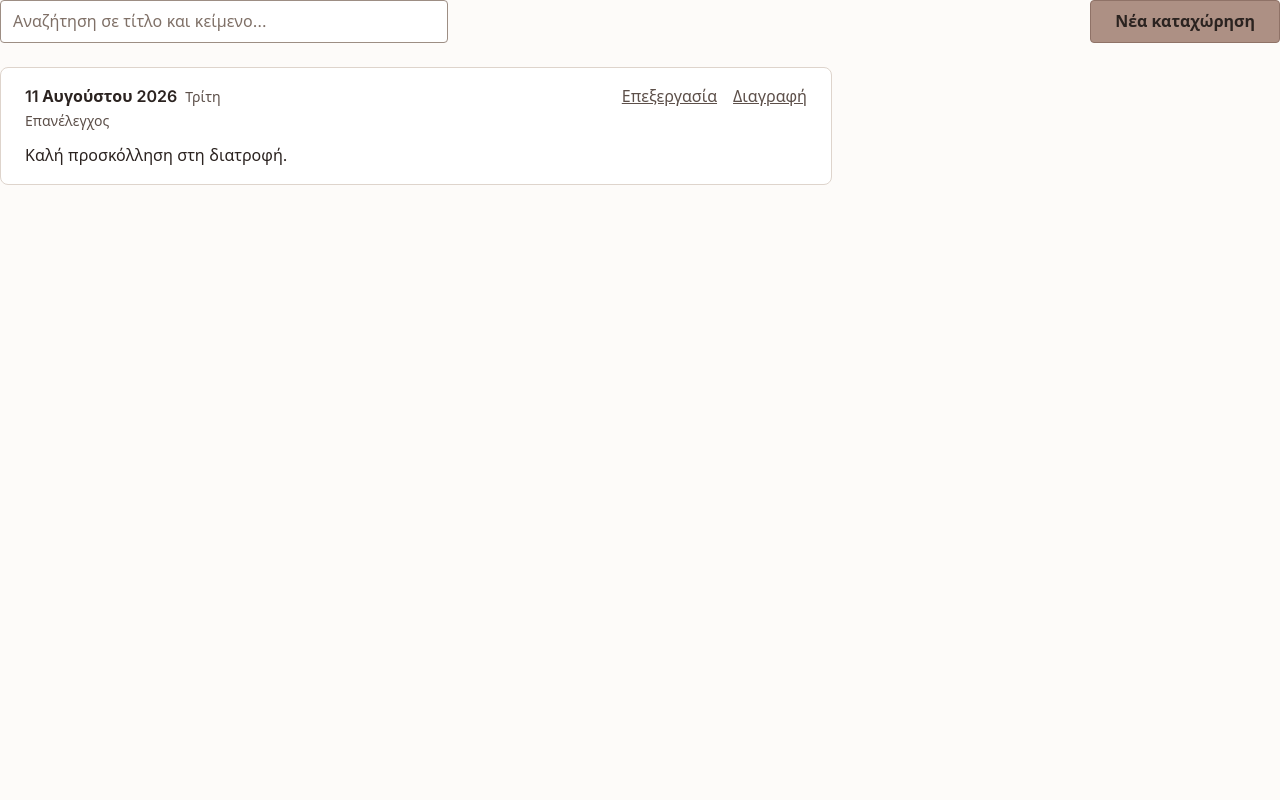
Test: JournalTab › should confirm a delete without inflecting the date
Expected: the text "Επανέλεγχος" is shown, [25, 112, 109, 129]
Click the button named "Διαγραφή καταχώρησης" at (770, 96), box [733, 84, 807, 109]
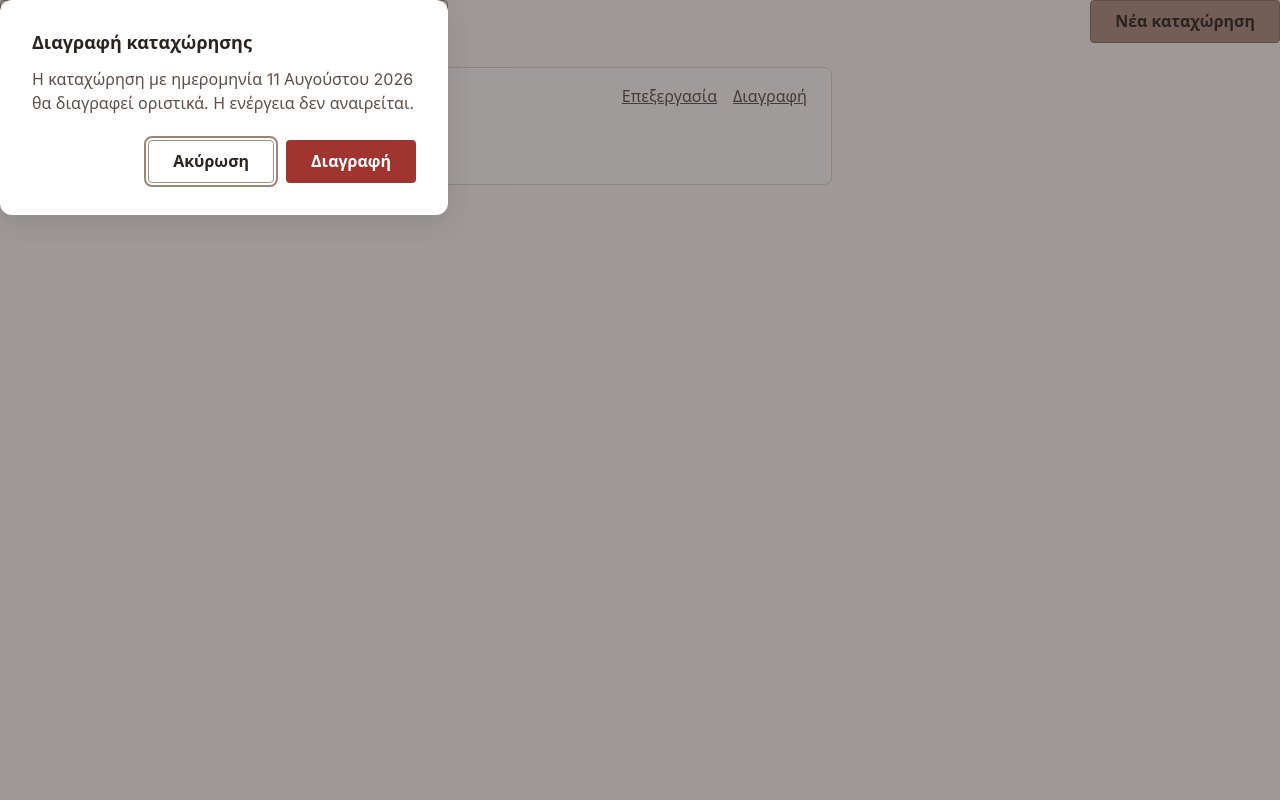
Now the text "με ημερομηνία 11 Αυγούστου 2026" is shown, box [32, 68, 414, 113]
